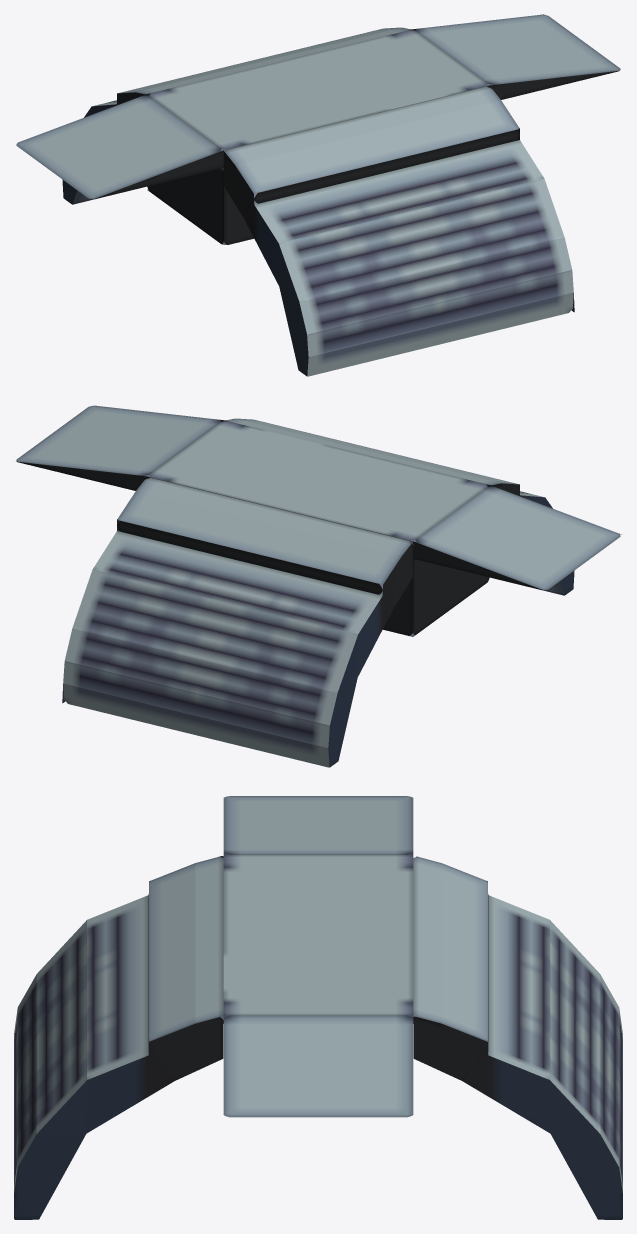
Rendered from df11_carport_louver_fan.obj.
3 views of the same model, one above another, from view 1: azimuth 30°, elevation 25°; view 2: azimuth 150°, elevation 25°; view 3: azimuth 270°, elevation 25° (orthographic). The views are drawn at different scales.
Visible parts, largest first — view 1: cube_selection_selection_selection_selection_selection_selection; view 2: cube_selection_selection_selection_selection_selection_selection; view 3: cube_selection_selection_selection_selection_selection_selection.
Boxes of the visible parts, x1=… form: cube_selection_selection_selection_selection_selection_selection: x1=16, y1=14, x2=620, y2=376; cube_selection_selection_selection_selection_selection_selection: x1=16, y1=405, x2=621, y2=767; cube_selection_selection_selection_selection_selection_selection: x1=14, y1=796, x2=622, y2=1219.
Bounding box in the file's own units: 4 × 1.19 × 3.21.
